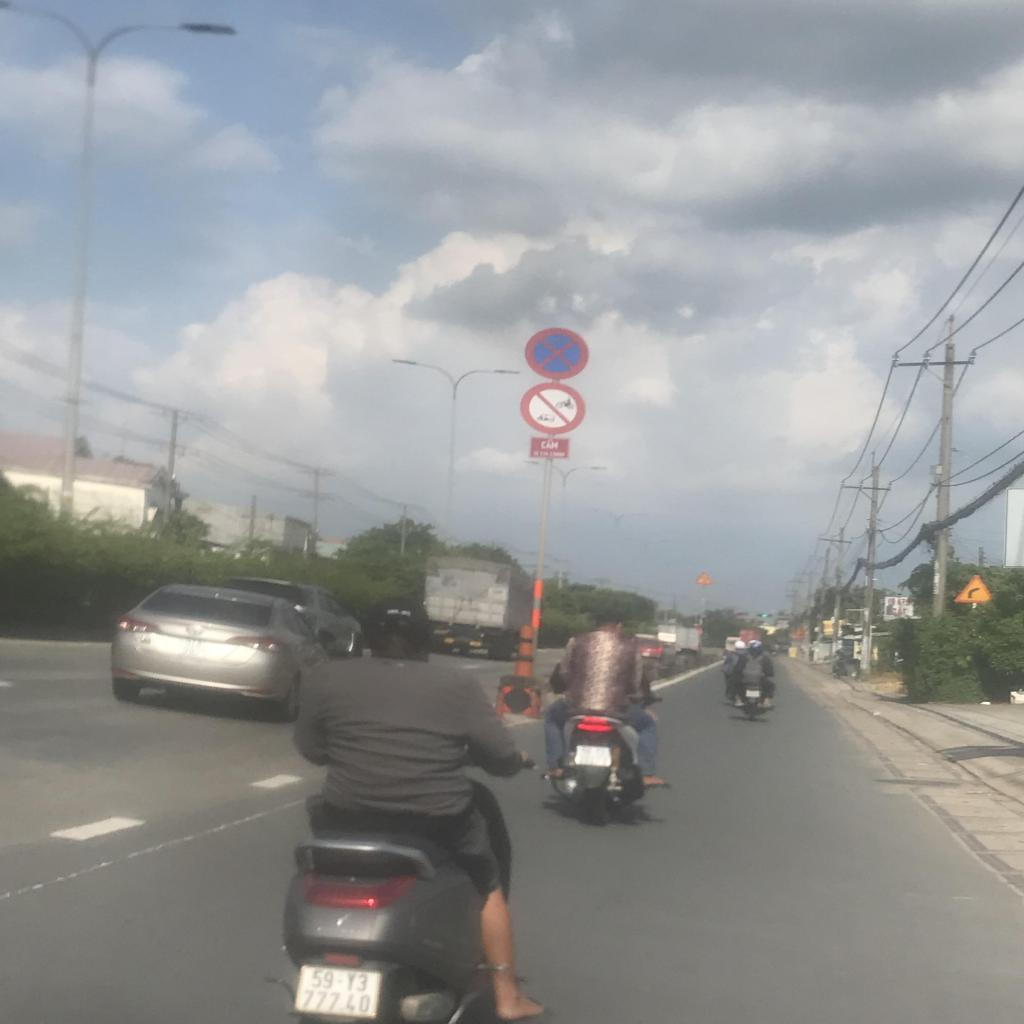cam_dung_xe_va_do_xe: (524, 326, 590, 381)
cam_xe_2_banh_va_xe_3_banh_co_dong_co: (521, 382, 585, 436)
cho_ngoat_nguy_hiem_ben_phai: (953, 574, 993, 603)
